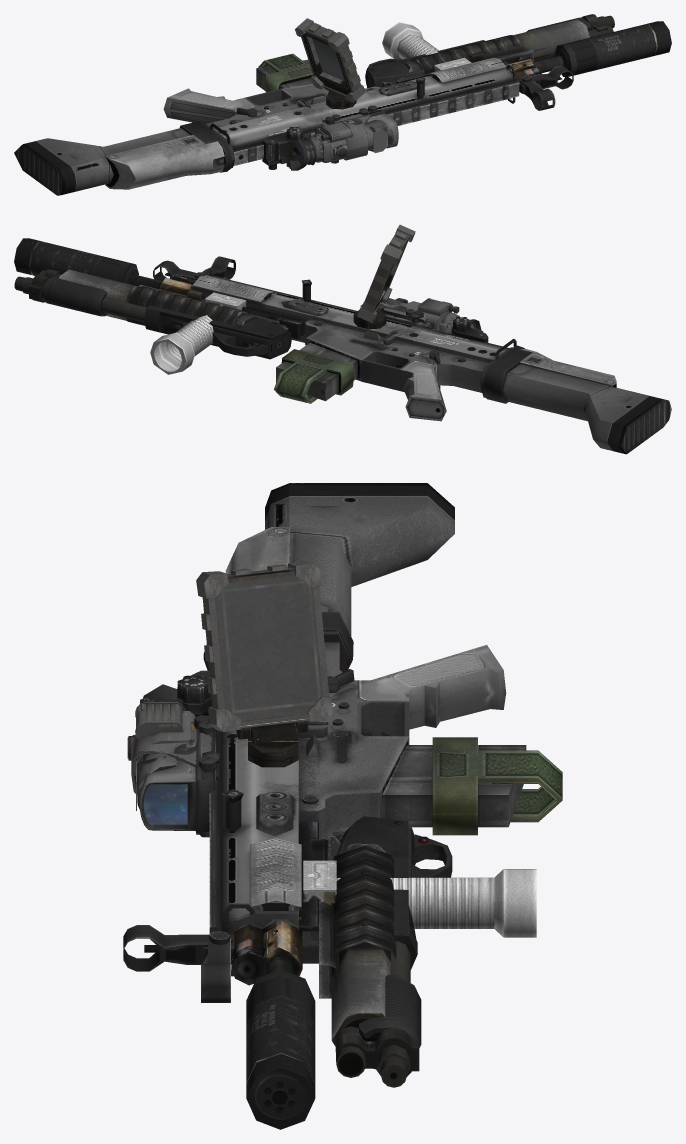
File: weapon_scar_h_woodland_LOD0.obj
3 views of the same model, one above another, from view 1: azimuth 30°, elevation 25°; view 2: azimuth 150°, elevation 25°; view 3: azimuth 270°, elevation 25° (orthographic). The views are drawn at different scales.
Visible parts, largest first — view 1: mtl_weapon_scar_h_woodland, mtl_weapon_m203, mtl_weapon_suppressor_b, mtl_weapon_motion_tracker_woodland, mtl_weapon_shotgun_masterkey, mtl_weapon_scar_sight_on, mtl_weapon_thermal_sight_2_woodland, mtl_weapon_scar_h_foregrip, mtl_weapon_acog_2_woodland, mtl_weapon_eotech_2_woodland, mtl_weapon_scar_sight_off, mtl_weapon_red_dot_sight_woodland; view 2: mtl_weapon_scar_h_woodland, mtl_weapon_shotgun_masterkey, mtl_weapon_m203, mtl_weapon_suppressor_b, mtl_weapon_scar_h_foregrip, mtl_weapon_motion_tracker_woodland, mtl_weapon_thermal_sight_2_woodland, mtl_weapon_scar_sight_on, mtl_weapon_scar_sight_off, mtl_weapon_acog_2_woodland, mtl_weapon_eotech_2_woodland; view 3: mtl_weapon_scar_h_woodland, mtl_weapon_motion_tracker_woodland, mtl_weapon_m203, mtl_weapon_shotgun_masterkey, mtl_weapon_suppressor_b, mtl_weapon_scar_h_foregrip, mtl_weapon_scar_sight_on, mtl_weapon_red_dot_sight_woodland, mtl_weapon_thermal_sight_2_woodland, mtl_weapon_scar_sight_off, mtl_weapon_reflex_lens, mtl_weapon_eotech_2_woodland (+1 smaller).
Boxes of the visible parts, x1,y1,x2,y2 form: mtl_weapon_scar_h_woodland: [14, 53, 563, 195]; mtl_weapon_m203: [382, 19, 589, 87]; mtl_weapon_suppressor_b: [554, 21, 671, 76]; mtl_weapon_motion_tracker_woodland: [295, 18, 365, 109]; mtl_weapon_shotgun_masterkey: [365, 14, 614, 88]; mtl_weapon_scar_sight_on: [262, 76, 555, 169]; mtl_weapon_thermal_sight_2_woodland: [289, 117, 387, 170]; mtl_weapon_scar_h_foregrip: [382, 22, 471, 71]; mtl_weapon_acog_2_woodland: [296, 108, 393, 163]; mtl_weapon_eotech_2_woodland: [321, 113, 370, 160]; mtl_weapon_scar_sight_off: [524, 66, 573, 89]; mtl_weapon_red_dot_sight_woodland: [332, 105, 398, 148]; mtl_weapon_scar_h_woodland: [129, 268, 671, 454]; mtl_weapon_shotgun_masterkey: [14, 269, 291, 359]; mtl_weapon_m203: [59, 269, 288, 330]; mtl_weapon_suppressor_b: [14, 238, 138, 284]; mtl_weapon_scar_h_foregrip: [150, 292, 246, 374]; mtl_weapon_motion_tracker_woodland: [353, 224, 415, 329]; mtl_weapon_thermal_sight_2_woodland: [395, 298, 481, 333]; mtl_weapon_scar_sight_on: [197, 256, 488, 342]; mtl_weapon_scar_sight_off: [153, 260, 203, 281]; mtl_weapon_acog_2_woodland: [379, 298, 476, 333]; mtl_weapon_eotech_2_woodland: [383, 301, 428, 325]; mtl_weapon_scar_h_woodland: [202, 483, 562, 985]; mtl_weapon_motion_tracker_woodland: [196, 560, 332, 767]; mtl_weapon_m203: [310, 827, 396, 1046]; mtl_weapon_shotgun_masterkey: [302, 816, 452, 1087]; mtl_weapon_suppressor_b: [246, 969, 315, 1129]; mtl_weapon_scar_h_foregrip: [303, 860, 536, 937]; mtl_weapon_scar_sight_on: [123, 670, 232, 971]; mtl_weapon_red_dot_sight_woodland: [139, 721, 216, 837]; mtl_weapon_thermal_sight_2_woodland: [132, 684, 208, 810]; mtl_weapon_scar_sight_off: [201, 932, 230, 1002]; mtl_weapon_reflex_lens: [143, 784, 187, 824]; mtl_weapon_eotech_2_woodland: [131, 721, 218, 794].
Size of the model in its own units: 92.05 by 17.26 by 28.93.
